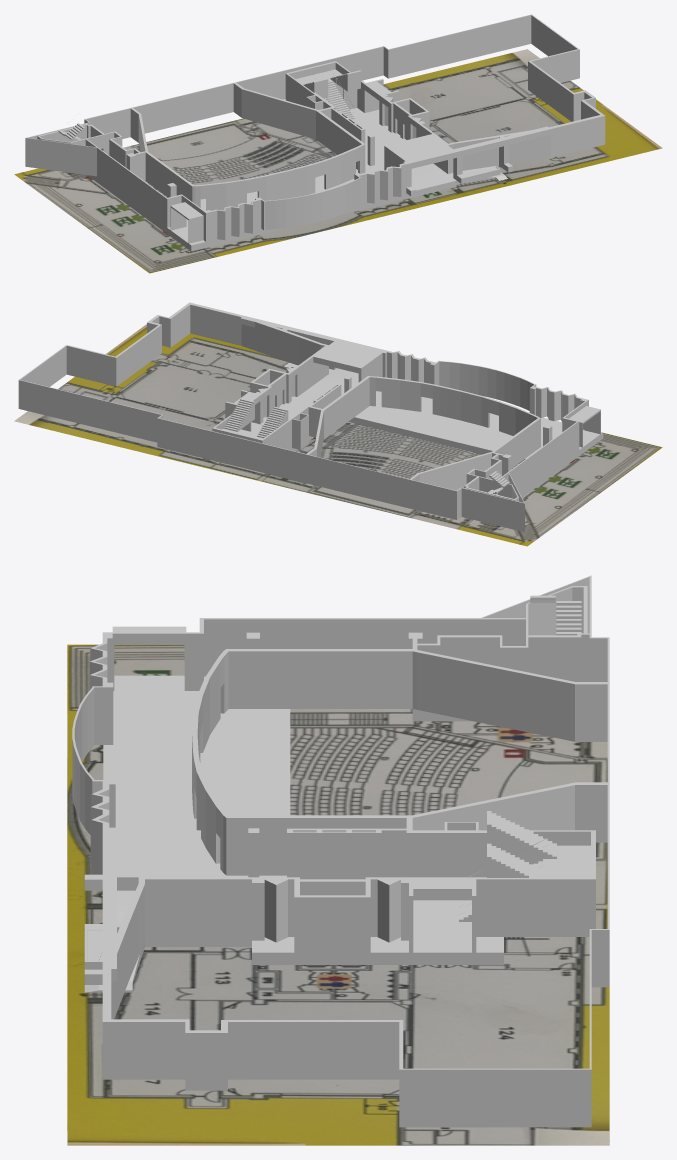
The model's file is map-E(ver_temp).fbx.
The picture shows the model from 3 angles, top to bottom: view 1: azimuth 30°, elevation 25°; view 2: azimuth 150°, elevation 25°; view 3: azimuth 270°, elevation 25°; orthographic projection. The views are drawn at different scales.
Parts seen in each view (by area): view 1: Line001, x-ray, 1stfloor, 1fCenterStair, 1fCenterRightStair; view 2: Line001, x-ray, 1stfloor, 1fCenterRightStair, 1fCenterLeftStair; view 3: Line001, x-ray, 1stfloor, 1fCenterLeftStair, 1fCenterRightStair, 1fSideStair003.
Boxes of the visible parts, x1=… form: Line001: x1=25, y1=14, x2=605, y2=243; x-ray: x1=14, y1=49, x2=662, y2=273; 1stfloor: x1=87, y1=108, x2=507, y2=251; 1fCenterStair: x1=313, y1=70, x2=354, y2=119; 1fCenterRightStair: x1=330, y1=70, x2=361, y2=91; Line001: x1=18, y1=302, x2=600, y2=532; x-ray: x1=14, y1=324, x2=662, y2=546; 1stfloor: x1=251, y1=362, x2=603, y2=497; 1fCenterRightStair: x1=223, y1=398, x2=254, y2=431; 1fCenterLeftStair: x1=257, y1=406, x2=288, y2=438; Line001: x1=72, y1=575, x2=609, y2=1127; x-ray: x1=67, y1=644, x2=609, y2=1145; 1stfloor: x1=84, y1=675, x2=503, y2=992; 1fCenterLeftStair: x1=487, y1=811, x2=556, y2=858; 1fCenterRightStair: x1=487, y1=843, x2=556, y2=877; 1fSideStair003: x1=556, y1=601, x2=581, y2=635.
Bounding box in the file's own units: 70000 × 7761 × 32000.
1 material, 1 textured.
